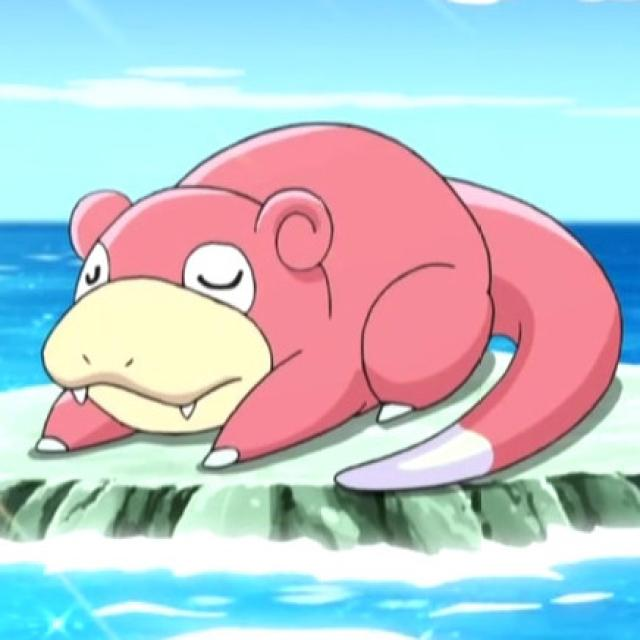Slowpoke: (41, 127, 566, 482)
